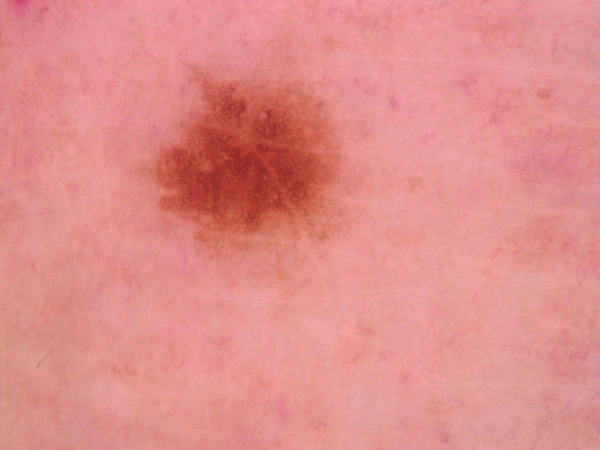Detected Lesion: (137, 58, 353, 271)
